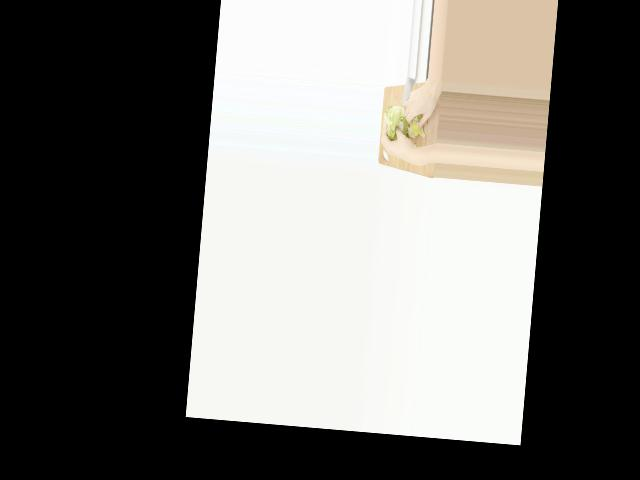lettuce: (382, 104, 408, 139)
